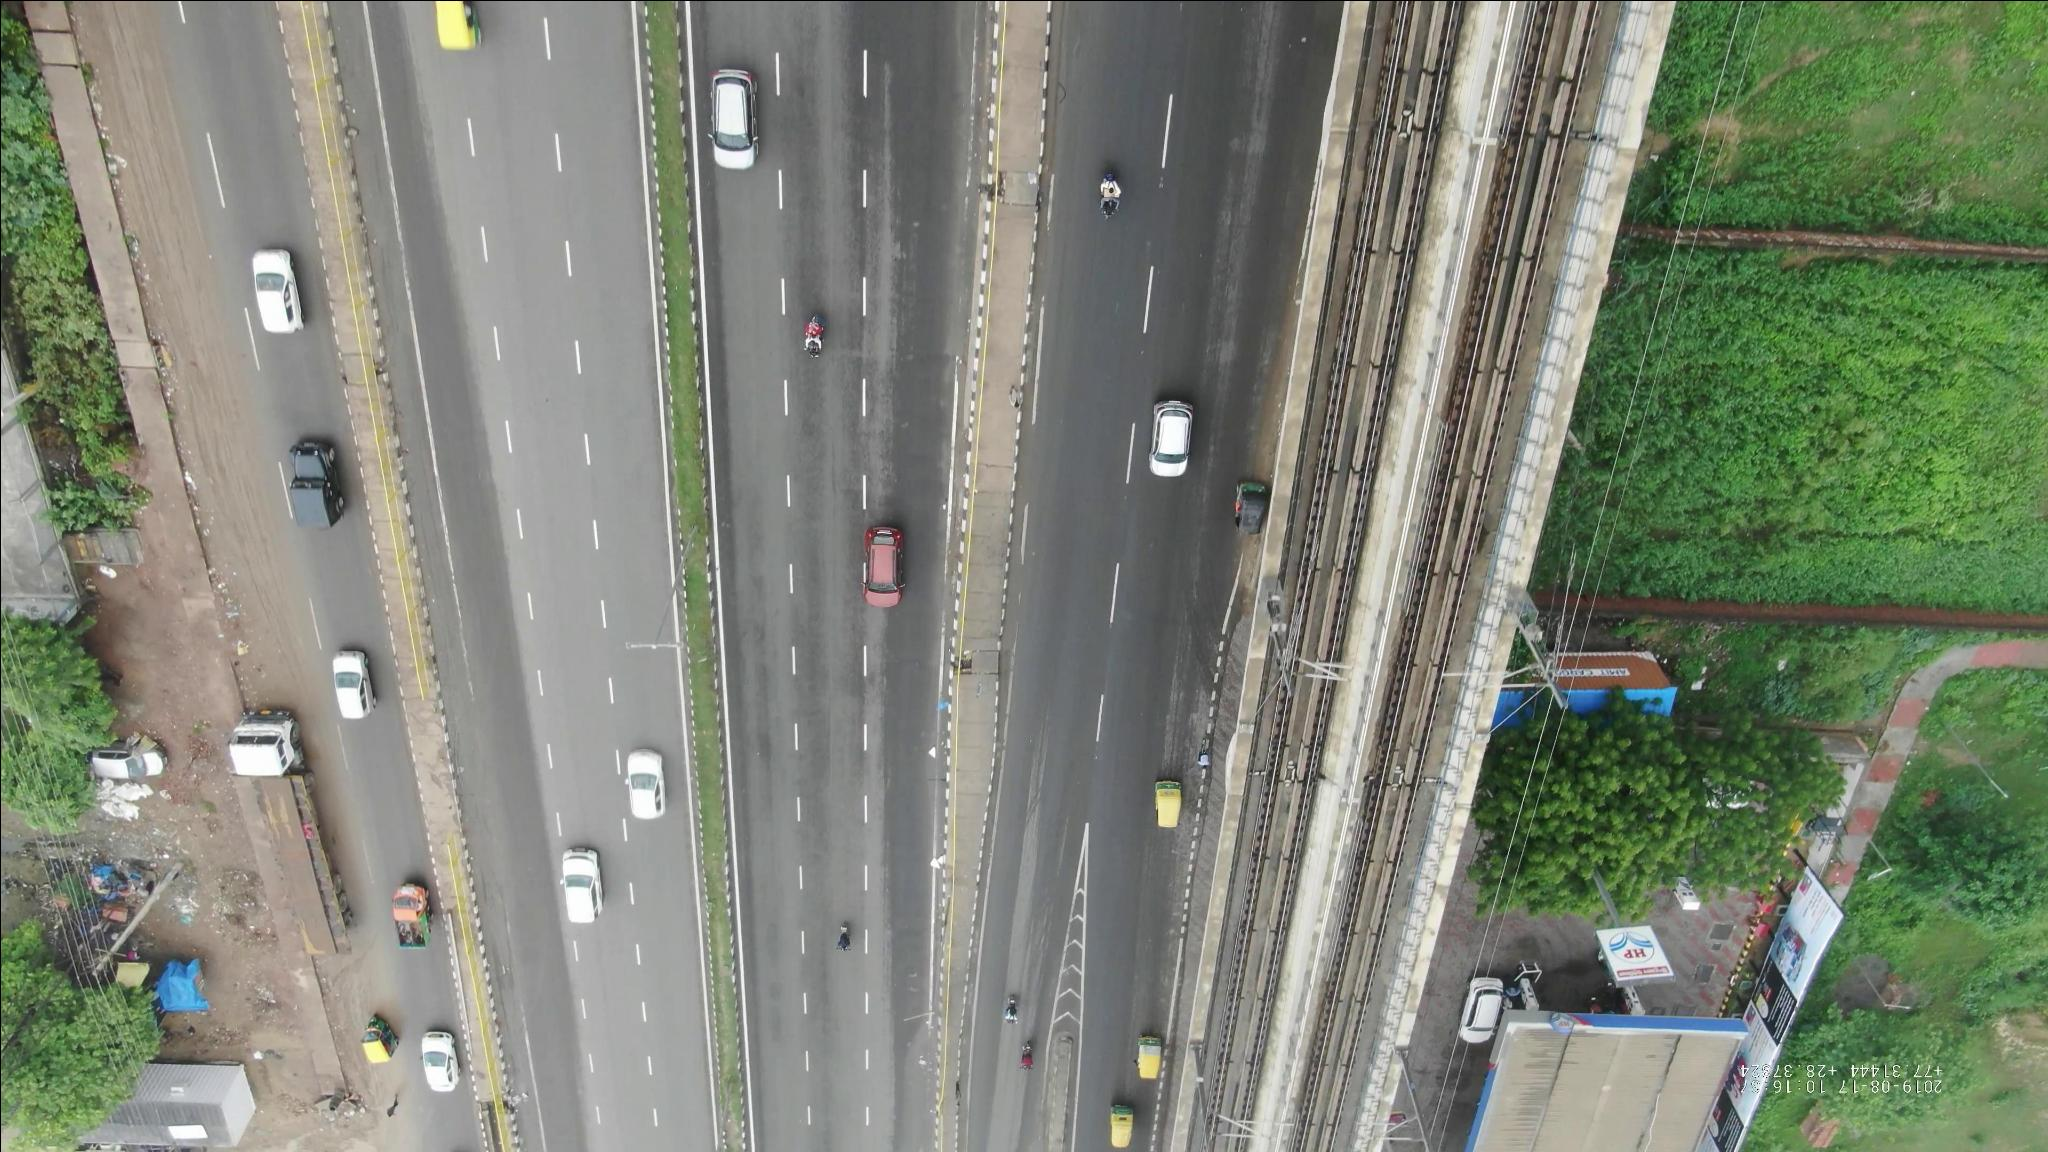Muddy_road: (138, 188, 222, 352), (217, 512, 302, 639)
